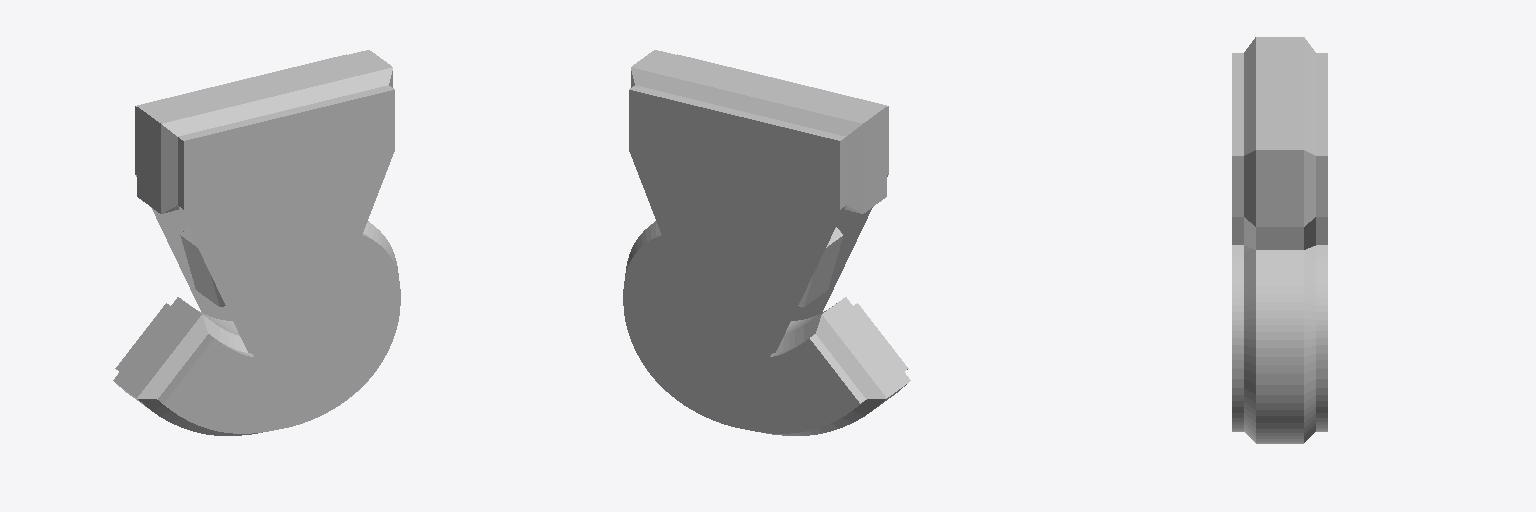
File: number03.obj
3 renders of one model, left to right at view 1: azimuth 30°, elevation 25°; view 2: azimuth 150°, elevation 25°; view 3: azimuth 270°, elevation 25°, orthographic.
Parts seen in each view (by area): view 1: Cap_2_1, 3, Rounding_2, 3_1, Cap_1, Cap_2; view 2: Cap_1_1, 3, Rounding_1, 3_1, Cap_2, Cap_1; view 3: 3, 3_1, Rounding_1, Rounding_2.
Boxes of the visible parts, <box> form: Cap_2_1: <box>164,90,400,433</box>; 3: <box>113,50,391,408</box>; Rounding_2: <box>137,67,398,435</box>; 3_1: <box>115,54,394,407</box>; Cap_1: <box>158,209,232,320</box>; Cap_2: <box>178,206,251,353</box>; Cap_1_1: <box>623,90,859,433</box>; 3: <box>632,50,910,408</box>; Rounding_1: <box>625,67,886,435</box>; 3_1: <box>629,54,908,407</box>; Cap_2: <box>791,209,865,320</box>; Cap_1: <box>772,206,845,353</box>; 3: <box>1256,37,1303,443</box>; 3_1: <box>1232,53,1327,431</box>; Rounding_1: <box>1304,37,1315,442</box>; Rounding_2: <box>1244,37,1255,442</box>.
Size of the model in its own units: 126 by 153 by 40.